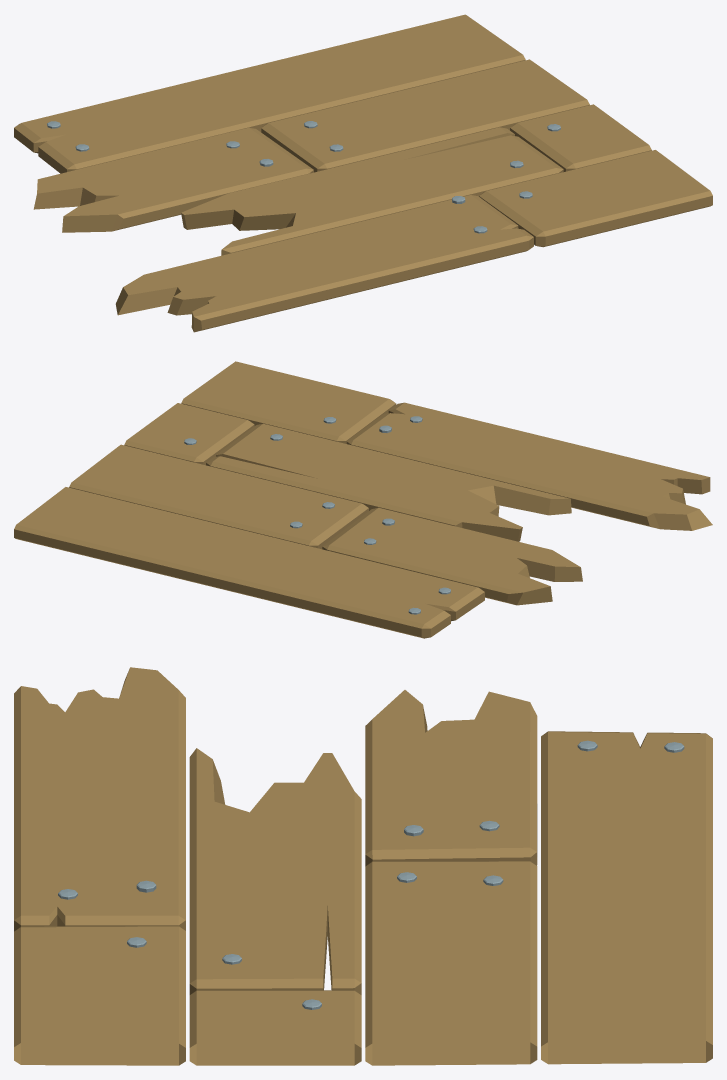
File: Floor_crack2_FIX.fbx
3 renders of one model, top to bottom at view 1: azimuth 30°, elevation 25°; view 2: azimuth 150°, elevation 25°; view 3: azimuth 270°, elevation 25°, orthographic. The views are drawn at different scales.
Parts seen in each view (by area): view 1: plain boards.021; view 2: plain boards.021; view 3: plain boards.021.
Part boxes in pixels (x1,y1,x2,y2): plain boards.021: (14,14,712,332); plain boards.021: (14,361,712,638); plain boards.021: (14,667,712,1065).
Bounding box in the file's own units: 217 × 10.04 × 167.
